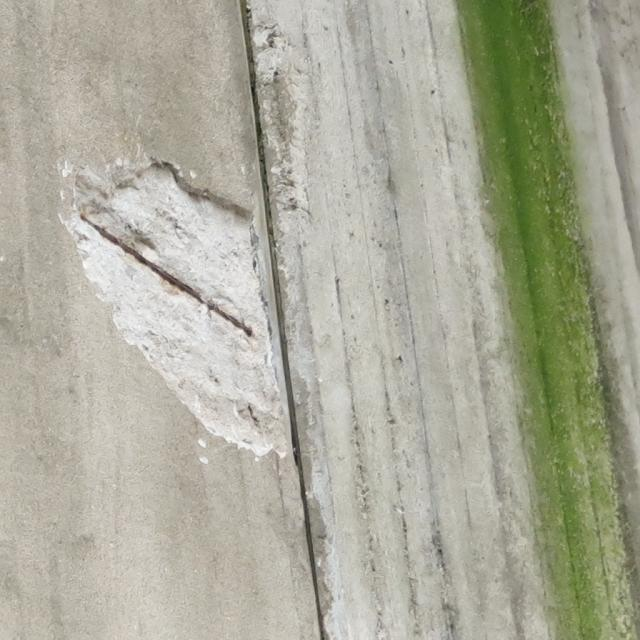D0w0: (58, 142, 331, 621), (62, 158, 310, 497), (62, 154, 269, 445)
